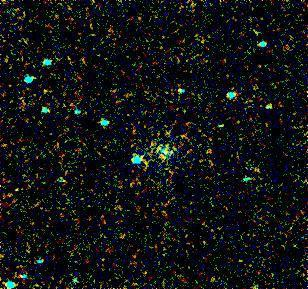star: (28, 73, 58, 103)
